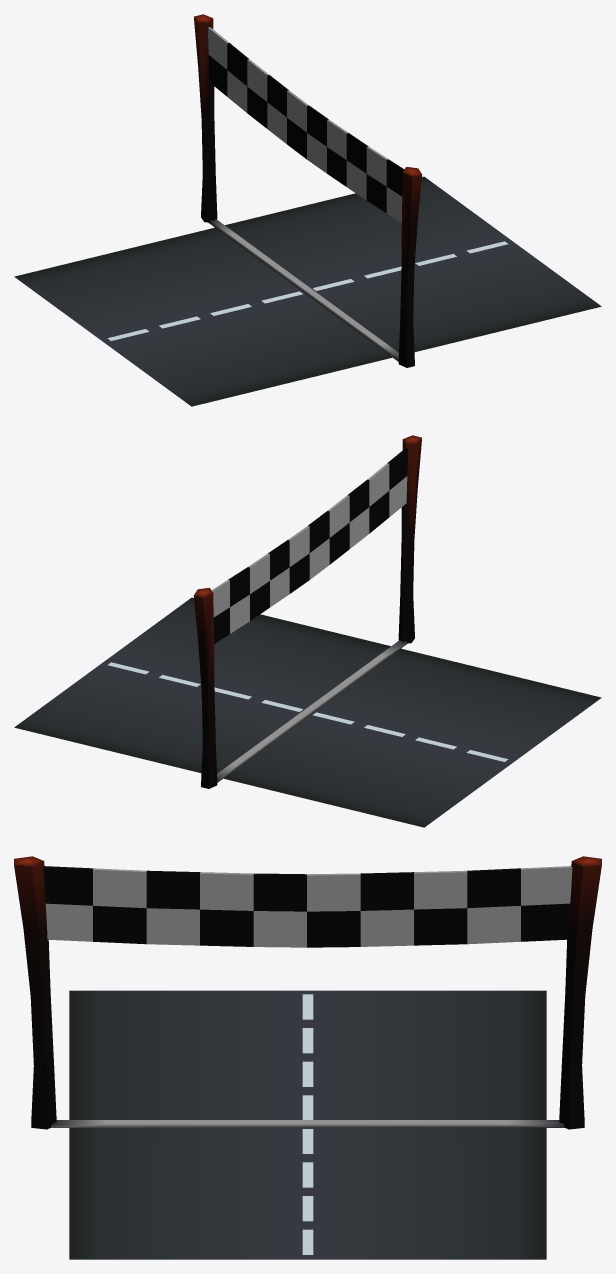
File: finish.glb
The picture shows the model from 3 angles, top to bottom: view 1: azimuth 30°, elevation 25°; view 2: azimuth 150°, elevation 25°; view 3: azimuth 270°, elevation 25°; orthographic projection. The views are drawn at different scales.
Visible parts, largest first — view 1: road_section_x8.001, GPL_goal_02; view 2: road_section_x8.001, GPL_goal_02; view 3: road_section_x8.001, GPL_goal_02.
Boxes of the visible parts, x1,y1,x2,y2 form: road_section_x8.001: [14, 176, 601, 406]; GPL_goal_02: [194, 14, 422, 367]; road_section_x8.001: [14, 597, 601, 827]; GPL_goal_02: [193, 435, 421, 788]; road_section_x8.001: [69, 990, 546, 1259]; GPL_goal_02: [14, 856, 601, 1129].
Size of the model in its own units: 16 by 7.33 by 14.79.
Materials: 2 (2 with a texture image).
